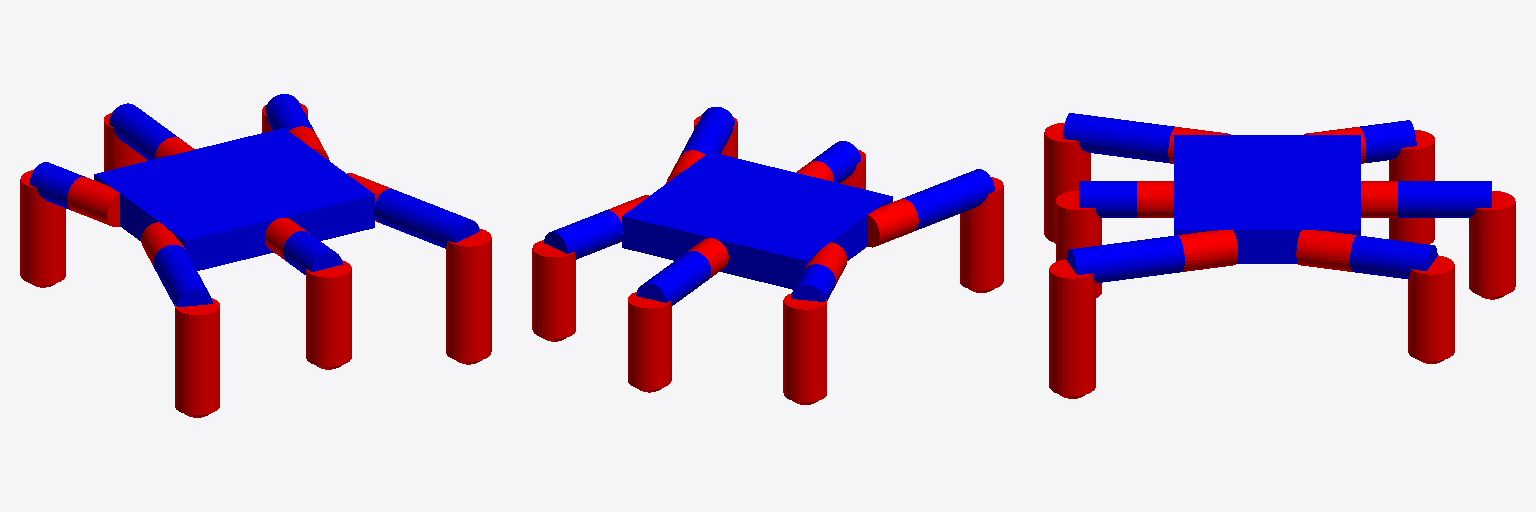
--- What the picture shows (computed from the rendered views, not written in the file) ---
Views: 3 orthographic renders of the robot side by side, from view 1: azimuth 30°, elevation 25°; view 2: azimuth 150°, elevation 25°; view 3: azimuth 270°, elevation 25°.
Model pexod with 19 links and 18 joints (18 revolute), rooted at base_link, posed all joints at 0.
Visible links, largest first — view 1: base_link, leg_3_3, leg_5_3, leg_4_3, leg_0_3, leg_3_2, leg_5_2, leg_1_2, leg_0_1, leg_4_2, leg_0_2, leg_2_2 (+3 smaller); view 2: base_link, leg_0_3, leg_5_3, leg_2_3, leg_1_3, leg_5_2, leg_2_2, leg_1_2, leg_5_1, leg_3_2, leg_0_2, leg_4_2 (+2 smaller); view 3: base_link, leg_3_3, leg_2_3, leg_1_3, leg_3_2, leg_5_2, leg_1_2, leg_5_3, leg_2_2, leg_0_3, leg_4_3, leg_2_1 (+5 smaller).
Boxes of the visible links, x1=… form: base_link: x1=94, y1=128, x2=374, y2=270; leg_3_3: x1=446, y1=228, x2=491, y2=364; leg_5_3: x1=175, y1=298, x2=219, y2=417; leg_4_3: x1=306, y1=260, x2=351, y2=369; leg_0_3: x1=20, y1=170, x2=65, y2=287; leg_3_2: x1=374, y1=189, x2=479, y2=248; leg_5_2: x1=153, y1=245, x2=212, y2=306; leg_1_2: x1=109, y1=103, x2=178, y2=160; leg_0_1: x1=67, y1=177, x2=119, y2=226; leg_4_2: x1=283, y1=231, x2=342, y2=274; leg_0_2: x1=29, y1=162, x2=84, y2=210; leg_2_2: x1=265, y1=94, x2=314, y2=131; base_link: x1=622, y1=152, x2=892, y2=289; leg_0_3: x1=783, y1=293, x2=826, y2=404; leg_5_3: x1=960, y1=177, x2=1003, y2=292; leg_2_3: x1=532, y1=240, x2=575, y2=341; leg_1_3: x1=628, y1=292, x2=671, y2=392; leg_5_2: x1=902, y1=169, x2=994, y2=230; leg_2_2: x1=544, y1=210, x2=622, y2=259; leg_1_2: x1=636, y1=251, x2=710, y2=305; leg_5_1: x1=868, y1=199, x2=918, y2=247; leg_3_2: x1=680, y1=107, x2=734, y2=155; leg_0_2: x1=791, y1=264, x2=835, y2=301; leg_4_2: x1=811, y1=141, x2=860, y2=182; base_link: x1=1174, y1=135, x2=1360, y2=263; leg_3_3: x1=1049, y1=259, x2=1095, y2=398; leg_2_3: x1=1408, y1=255, x2=1454, y2=363; leg_1_3: x1=1469, y1=191, x2=1515, y2=299; leg_3_2: x1=1066, y1=235, x2=1184, y2=282; leg_5_2: x1=1063, y1=113, x2=1174, y2=163; leg_1_2: x1=1398, y1=181, x2=1491, y2=217; leg_5_3: x1=1044, y1=123, x2=1090, y2=243; leg_2_2: x1=1350, y1=235, x2=1437, y2=278; leg_0_3: x1=1389, y1=130, x2=1434, y2=244; leg_4_3: x1=1056, y1=191, x2=1101, y2=297; leg_2_1: x1=1296, y1=230, x2=1356, y2=271.
Bounding box of the posed robot: 0.3958 × 0.5049 × 0.1716 m (x, y, z).
Geometry: primitives only (box / cylinder / sphere), no mesh files.

URDF robot description (pexod):
<?xml version="1.0" ?>
<!-- =================================================================================== -->
<!-- |    This document was autogenerated by xacro from pexod.xacro                    | -->
<!-- |    EDITING THIS FILE BY HAND IS NOT RECOMMENDED                                 | -->
<!-- =================================================================================== -->
<robot name="pexod" xmlns:xacro="http://www.ros.org/wiki/xacro">
  <!-- <xacro:include filename="$(find pexod_description)/urdf/pexod_control.xacro" /> -->
  <!-- MATERIALS -->
  <material name="Blue">
    <color rgba="0 0 1 1"/>
  </material>
  <material name="Red">
    <color rgba="1 0 0 1"/>
  </material>
  <material name="Green">
    <color rgba="0 1 0 1"/>
  </material>
  <material name="Yellow">
    <color rgba="1 1 0 1"/>
  </material>
  <material name="LightGrey">
    <color rgba="0.6 0.6 0.6 1.0"/>
  </material>
  <!-- END OF MATERIALS -->
  <!-- XACRO MACROS FOR VISUALS AND COLLISIONS -->
  <!-- END OF XACRO MACROS -->
  <!-- TORSO -->
  <link name="base_link">
    <visual>
      <origin rpy="0 0 0" xyz="0 0 0"/>
      <geometry>
        <box size="0.24 0.2 0.04"/>
      </geometry>
      <material name="Blue"/>
    </visual>
    <collision>
      <origin rpy="0 0 0" xyz="0 0 0"/>
      <geometry>
        <box size="0.24 0.2 0.04"/>
      </geometry>
    </collision>
    <inertial>
      <!-- CENTER OF MASS -->
      <origin rpy="0 0 0" xyz="0 0 0"/>
      <mass value="1.031"/>
      <!-- box inertia: 1/12*m(y^2+z^2), ... -->
      <inertia ixx="0.00357413333333" ixy="0" ixz="0" iyy="0.00508626666667" iyz="0" izz="0.00838546666667"/>
    </inertial>
  </link>
  <!-- XACRO MACRO FOR LEGS LINKS/JOINTS -->
  <!-- END OF LEG LINKS/JOINTS -->
  <joint name="body_leg_2" type="revolute">
    <parent link="base_link"/>
    <child link="leg_2_1"/>
    <limit effort="30.0" lower="-1.57079632679" upper="1.57079632679" velocity="7.0"/>
    <origin rpy="0 0 -0.3" xyz="0.11 0.04 0"/>
    <!-- <xacro:if value="${index == 5 or index == 4 or index == 3}">
                <axis xyz="0 0 1"/>
            </xacro:if>
            <xacro:if value="${index == 2 or index == 1 or index == 0}"> -->
    <axis xyz="0 0 1"/>
    <!-- </xacro:if> -->
    <dynamics damping="0.0"/>
  </joint>
  <link name="leg_2_1">
    <visual>
      <origin rpy="1.57079632679 0 0" xyz="0.01 0.03 0"/>
      <geometry>
        <cylinder length="0.06" radius="0.02"/>
      </geometry>
      <material name="Red"/>
    </visual>
    <collision>
      <origin rpy="1.57079632679 0 0" xyz="0.01 0.03 0"/>
      <geometry>
        <box size="0.02 0.02 0.06"/>
      </geometry>
    </collision>
    <inertial>
      <!-- CENTER OF MASS -->
      <origin rpy="1.57079632679 0 0" xyz="0.01 0.03 0"/>
      <mass value="0.02"/>
      <!-- box inertia: 1/12*m(y^2+z^2), ... -->
      <inertia ixx="6.66666666667e-06" ixy="0" ixz="0" iyy="6.66666666667e-06" iyz="0" izz="1.33333333333e-06"/>
    </inertial>
  </link>
  <joint name="leg_2_1_2" type="revolute">
    <parent link="leg_2_1"/>
    <child link="leg_2_2"/>
    <limit effort="30.0" lower="-0.78539816339" upper="0.78539816339" velocity="7.0"/>
    <origin rpy="0 0 0" xyz="0 0.06 0"/>
    <axis xyz="1 0 0"/>
    <dynamics damping="0.0"/>
  </joint>
  <link name="leg_2_2">
    <visual>
      <origin rpy="1.57079632679 0 0" xyz="0.01 0.0430266638353 0"/>
      <geometry>
        <cylinder length="0.0860533276705" radius="0.02"/>
      </geometry>
      <material name="Blue"/>
    </visual>
    <collision>
      <origin rpy="1.57079632679 0 0" xyz="0.01 0.0430266638353 0"/>
      <geometry>
        <box size="0.02 0.02 0.0860533276705"/>
      </geometry>
    </collision>
    <inertial>
      <!-- CENTER OF MASS -->
      <origin rpy="1.57079632679 0 0" xyz="0.01 0.0430266638353 0"/>
      <mass value="0.184"/>
      <!-- box inertia: 1/12*m(y^2+z^2), ... -->
      <inertia ixx="0.000119679353115" ixy="0" ixz="0" iyy="0.000119679353115" iyz="0" izz="1.22666666667e-05"/>
    </inertial>
  </link>
  <joint name="leg_2_2_3" type="revolute">
    <parent link="leg_2_2"/>
    <child link="leg_2_3"/>
    <limit effort="30.0" lower="-0.78539816339" upper="0.78539816339" velocity="7.0"/>
    <origin rpy="-1.57079632679 0 0" xyz="0 0.0860533276705 0"/>
    <axis xyz="-1 0 0"/>
    <dynamics damping="0.0"/>
  </joint>
  <link name="leg_2_3">
    <visual>
      <origin rpy="1.57079632679 0 0" xyz="0.0125 0.0512693097865 0"/>
      <geometry>
        <cylinder length="0.102538619573" radius="0.025"/>
      </geometry>
      <material name="Red"/>
    </visual>
    <visual>
      <origin rpy="1.57079632679 0 0" xyz="0.0125 0.090038619573 0"/>
      <geometry>
        <sphere radius="0.025"/>
      </geometry>
      <material name="Red"/>
    </visual>
    <collision>
      <origin rpy="1.57079632679 0 0" xyz="0.0125 0.0512693097865 0"/>
      <geometry>
        <box size="0.025 0.025 0.102538619573"/>
      </geometry>
    </collision>
    <collision>
      <origin rpy="1.57079632679 0 0" xyz="0.0125 0.090038619573 0"/>
      <geometry>
        <sphere radius="0.025"/>
      </geometry>
      <material name="Red"/>
    </collision>
    <inertial>
      <!-- CENTER OF MASS -->
      <origin rpy="1.57079632679 0 0" xyz="0.0125 0.0512693097865 0"/>
      <mass value="0.04"/>
      <!-- box inertia: 1/12*m(y^2+z^2), ... -->
      <inertia ixx="3.71305616798e-05" ixy="0" ixz="0" iyy="3.71305616798e-05" iyz="0" izz="4.16666666667e-06"/>
    </inertial>
  </link>
  <joint name="body_leg_3" type="revolute">
    <parent link="base_link"/>
    <child link="leg_3_1"/>
    <limit effort="30.0" lower="-1.57079632679" upper="1.57079632679" velocity="7.0"/>
    <origin rpy="0 0 0.3" xyz="0.11 -0.04 0"/>
    <!-- <xacro:if value="${index == 5 or index == 4 or index == 3}">
                <axis xyz="0 0 1"/>
            </xacro:if>
            <xacro:if value="${index == 2 or index == 1 or index == 0}"> -->
    <axis xyz="0 0 1"/>
    <!-- </xacro:if> -->
    <dynamics damping="0.0"/>
  </joint>
  <link name="leg_3_1">
    <visual>
      <origin rpy="1.57079632679 0 0" xyz="0.01 -0.03 0"/>
      <geometry>
        <cylinder length="0.06" radius="0.02"/>
      </geometry>
      <material name="Red"/>
    </visual>
    <collision>
      <origin rpy="1.57079632679 0 0" xyz="0.01 -0.03 0"/>
      <geometry>
        <box size="0.02 0.02 0.06"/>
      </geometry>
    </collision>
    <inertial>
      <!-- CENTER OF MASS -->
      <origin rpy="1.57079632679 0 0" xyz="0.01 -0.03 0"/>
      <mass value="0.02"/>
      <!-- box inertia: 1/12*m(y^2+z^2), ... -->
      <inertia ixx="6.66666666667e-06" ixy="0" ixz="0" iyy="6.66666666667e-06" iyz="0" izz="1.33333333333e-06"/>
    </inertial>
  </link>
  <joint name="leg_3_1_2" type="revolute">
    <parent link="leg_3_1"/>
    <child link="leg_3_2"/>
    <limit effort="30.0" lower="-0.78539816339" upper="0.78539816339" velocity="7.0"/>
    <origin rpy="0 0 0" xyz="0 -0.06 0"/>
    <axis xyz="-1 0 0"/>
    <dynamics damping="0.0"/>
  </joint>
  <link name="leg_3_2">
    <visual>
      <origin rpy="1.57079632679 0 0" xyz="0.01 -0.0602237275635 0"/>
      <geometry>
        <cylinder length="0.120447455127" radius="0.02"/>
      </geometry>
      <material name="Blue"/>
    </visual>
    <collision>
      <origin rpy="1.57079632679 0 0" xyz="0.01 -0.0602237275635 0"/>
      <geometry>
        <box size="0.02 0.02 0.120447455127"/>
      </geometry>
    </collision>
    <inertial>
      <!-- CENTER OF MASS -->
      <origin rpy="1.57079632679 0 0" xyz="0.01 -0.0602237275635 0"/>
      <mass value="0.184"/>
      <!-- box inertia: 1/12*m(y^2+z^2), ... -->
      <inertia ixx="0.000228583038181" ixy="0" ixz="0" iyy="0.000228583038181" iyz="0" izz="1.22666666667e-05"/>
    </inertial>
  </link>
  <joint name="leg_3_2_3" type="revolute">
    <parent link="leg_3_2"/>
    <child link="leg_3_3"/>
    <limit effort="30.0" lower="-0.78539816339" upper="0.78539816339" velocity="7.0"/>
    <origin rpy="1.57079632679 0 0" xyz="0 -0.120447455127 0"/>
    <axis xyz="1 0 0"/>
    <dynamics damping="0.0"/>
  </joint>
  <link name="leg_3_3">
    <visual>
      <origin rpy="1.57079632679 0 0" xyz="0.0125 -0.0695699544 0"/>
      <geometry>
        <cylinder length="0.1391399088" radius="0.025"/>
      </geometry>
      <material name="Red"/>
    </visual>
    <visual>
      <origin rpy="1.57079632679 0 0" xyz="0.0125 -0.1266399088 0"/>
      <geometry>
        <sphere radius="0.025"/>
      </geometry>
      <material name="Red"/>
    </visual>
    <collision>
      <origin rpy="1.57079632679 0 0" xyz="0.0125 -0.0695699544 0"/>
      <geometry>
        <box size="0.025 0.025 0.1391399088"/>
      </geometry>
    </collision>
    <collision>
      <origin rpy="1.57079632679 0 0" xyz="0.0125 -0.1266399088 0"/>
      <geometry>
        <sphere radius="0.025"/>
      </geometry>
      <material name="Red"/>
    </collision>
    <inertial>
      <!-- CENTER OF MASS -->
      <origin rpy="1.57079632679 0 0" xyz="0.0125 -0.0695699544 0"/>
      <mass value="0.04"/>
      <!-- box inertia: 1/12*m(y^2+z^2), ... -->
      <inertia ixx="6.66163807362e-05" ixy="0" ixz="0" iyy="6.66163807362e-05" iyz="0" izz="4.16666666667e-06"/>
    </inertial>
  </link>
  <joint name="body_leg_0" type="revolute">
    <parent link="base_link"/>
    <child link="leg_0_1"/>
    <limit effort="30.0" lower="-1.57079632679" upper="1.57079632679" velocity="7.0"/>
    <origin rpy="0 0 0.3" xyz="-0.13 0.04 0"/>
    <!-- <xacro:if value="${index == 5 or index == 4 or index == 3}">
                <axis xyz="0 0 1"/>
            </xacro:if>
            <xacro:if value="${index == 2 or index == 1 or index == 0}"> -->
    <axis xyz="0 0 1"/>
    <!-- </xacro:if> -->
    <dynamics damping="0.0"/>
  </joint>
  <link name="leg_0_1">
    <visual>
      <origin rpy="1.57079632679 0 0" xyz="0.01 0.03 0"/>
      <geometry>
        <cylinder length="0.06" radius="0.02"/>
      </geometry>
      <material name="Red"/>
    </visual>
    <collision>
      <origin rpy="1.57079632679 0 0" xyz="0.01 0.03 0"/>
      <geometry>
        <box size="0.02 0.02 0.06"/>
      </geometry>
    </collision>
    <inertial>
      <!-- CENTER OF MASS -->
      <origin rpy="1.57079632679 0 0" xyz="0.01 0.03 0"/>
      <mass value="0.02"/>
      <!-- box inertia: 1/12*m(y^2+z^2), ... -->
      <inertia ixx="6.66666666667e-06" ixy="0" ixz="0" iyy="6.66666666667e-06" iyz="0" izz="1.33333333333e-06"/>
    </inertial>
  </link>
  <joint name="leg_0_1_2" type="revolute">
    <parent link="leg_0_1"/>
    <child link="leg_0_2"/>
    <limit effort="30.0" lower="-0.78539816339" upper="0.78539816339" velocity="7.0"/>
    <origin rpy="0 0 0" xyz="0 0.06 0"/>
    <axis xyz="1 0 0"/>
    <dynamics damping="0.0"/>
  </joint>
  <link name="leg_0_2">
    <visual>
      <origin rpy="1.57079632679 0 0" xyz="0.01 0.0281871186843 0"/>
      <geometry>
        <cylinder length="0.0563742373685" radius="0.02"/>
      </geometry>
      <material name="Blue"/>
    </visual>
    <collision>
      <origin rpy="1.57079632679 0 0" xyz="0.01 0.0281871186843 0"/>
      <geometry>
        <box size="0.02 0.02 0.0563742373685"/>
      </geometry>
    </collision>
    <inertial>
      <!-- CENTER OF MASS -->
      <origin rpy="1.57079632679 0 0" xyz="0.01 0.0281871186843 0"/>
      <mass value="0.184"/>
      <!-- box inertia: 1/12*m(y^2+z^2), ... -->
      <inertia ixx="5.48635044628e-05" ixy="0" ixz="0" iyy="5.48635044628e-05" iyz="0" izz="1.22666666667e-05"/>
    </inertial>
  </link>
  <joint name="leg_0_2_3" type="revolute">
    <parent link="leg_0_2"/>
    <child link="leg_0_3"/>
    <limit effort="30.0" lower="-0.78539816339" upper="0.78539816339" velocity="7.0"/>
    <origin rpy="-1.57079632679 0 0" xyz="0 0.0563742373685 0"/>
    <axis xyz="-1 0 0"/>
    <dynamics damping="0.0"/>
  </joint>
  <link name="leg_0_3">
    <visual>
      <origin rpy="1.57079632679 0 0" xyz="0.0125 0.058331699389 0"/>
      <geometry>
        <cylinder length="0.116663398778" radius="0.025"/>
      </geometry>
      <material name="Red"/>
    </visual>
    <visual>
      <origin rpy="1.57079632679 0 0" xyz="0.0125 0.104163398778 0"/>
      <geometry>
        <sphere radius="0.025"/>
      </geometry>
      <material name="Red"/>
    </visual>
    <collision>
      <origin rpy="1.57079632679 0 0" xyz="0.0125 0.058331699389 0"/>
      <geometry>
        <box size="0.025 0.025 0.116663398778"/>
      </geometry>
    </collision>
    <collision>
      <origin rpy="1.57079632679 0 0" xyz="0.0125 0.104163398778 0"/>
      <geometry>
        <sphere radius="0.025"/>
      </geometry>
      <material name="Red"/>
    </collision>
    <inertial>
      <!-- CENTER OF MASS -->
      <origin rpy="1.57079632679 0 0" xyz="0.0125 0.058331699389 0"/>
      <mass value="0.04"/>
      <!-- box inertia: 1/12*m(y^2+z^2), ... -->
      <inertia ixx="4.74511620481e-05" ixy="0" ixz="0" iyy="4.74511620481e-05" iyz="0" izz="4.16666666667e-06"/>
    </inertial>
  </link>
  <joint name="body_leg_5" type="revolute">
    <parent link="base_link"/>
    <child link="leg_5_1"/>
    <limit effort="30.0" lower="-1.57079632679" upper="1.57079632679" velocity="7.0"/>
    <origin rpy="0 0 -0.3" xyz="-0.13 -0.04 0"/>
    <!-- <xacro:if value="${index == 5 or index == 4 or index == 3}">
                <axis xyz="0 0 1"/>
            </xacro:if>
            <xacro:if value="${index == 2 or index == 1 or index == 0}"> -->
    <axis xyz="0 0 1"/>
    <!-- </xacro:if> -->
    <dynamics damping="0.0"/>
  </joint>
  <link name="leg_5_1">
    <visual>
      <origin rpy="1.57079632679 0 0" xyz="0.01 -0.03 0"/>
      <geometry>
        <cylinder length="0.06" radius="0.02"/>
      </geometry>
      <material name="Red"/>
    </visual>
    <collision>
      <origin rpy="1.57079632679 0 0" xyz="0.01 -0.03 0"/>
      <geometry>
        <box size="0.02 0.02 0.06"/>
      </geometry>
    </collision>
    <inertial>
      <!-- CENTER OF MASS -->
      <origin rpy="1.57079632679 0 0" xyz="0.01 -0.03 0"/>
      <mass value="0.02"/>
      <!-- box inertia: 1/12*m(y^2+z^2), ... -->
      <inertia ixx="6.66666666667e-06" ixy="0" ixz="0" iyy="6.66666666667e-06" iyz="0" izz="1.33333333333e-06"/>
    </inertial>
  </link>
  <joint name="leg_5_1_2" type="revolute">
    <parent link="leg_5_1"/>
    <child link="leg_5_2"/>
    <limit effort="30.0" lower="-0.78539816339" upper="0.78539816339" velocity="7.0"/>
    <origin rpy="0 0 0" xyz="0 -0.06 0"/>
    <axis xyz="-1 0 0"/>
    <dynamics damping="0.0"/>
  </joint>
  <link name="leg_5_2">
    <visual>
      <origin rpy="1.57079632679 0 0" xyz="0.01 -0.0591214658795 0"/>
      <geometry>
        <cylinder length="0.118242931759" radius="0.02"/>
      </geometry>
      <material name="Blue"/>
    </visual>
    <collision>
      <origin rpy="1.57079632679 0 0" xyz="0.01 -0.0591214658795 0"/>
      <geometry>
        <box size="0.02 0.02 0.118242931759"/>
      </geometry>
    </collision>
    <inertial>
      <!-- CENTER OF MASS -->
      <origin rpy="1.57079632679 0 0" xyz="0.01 -0.0591214658795 0"/>
      <mass value="0.184"/>
      <!-- box inertia: 1/12*m(y^2+z^2), ... -->
      <inertia ixx="0.000220514660635" ixy="0" ixz="0" iyy="0.000220514660635" iyz="0" izz="1.22666666667e-05"/>
    </inertial>
  </link>
  <joint name="leg_5_2_3" type="revolute">
    <parent link="leg_5_2"/>
    <child link="leg_5_3"/>
    <limit effort="30.0" lower="-0.78539816339" upper="0.78539816339" velocity="7.0"/>
    <origin rpy="1.57079632679 0 0" xyz="0 -0.118242931759 0"/>
    <axis xyz="1 0 0"/>
    <dynamics damping="0.0"/>
  </joint>
  <link name="leg_5_3">
    <visual>
      <origin rpy="1.57079632679 0 0" xyz="0.0125 -0.060403931074 0"/>
      <geometry>
        <cylinder length="0.120807862148" radius="0.025"/>
      </geometry>
      <material name="Red"/>
    </visual>
    <visual>
      <origin rpy="1.57079632679 0 0" xyz="0.0125 -0.108307862148 0"/>
      <geometry>
        <sphere radius="0.025"/>
      </geometry>
      <material name="Red"/>
    </visual>
    <collision>
      <origin rpy="1.57079632679 0 0" xyz="0.0125 -0.060403931074 0"/>
      <geometry>
        <box size="0.025 0.025 0.120807862148"/>
      </geometry>
    </collision>
    <collision>
      <origin rpy="1.57079632679 0 0" xyz="0.0125 -0.108307862148 0"/>
      <geometry>
        <sphere radius="0.025"/>
      </geometry>
      <material name="Red"/>
    </collision>
    <inertial>
      <!-- CENTER OF MASS -->
      <origin rpy="1.57079632679 0 0" xyz="0.0125 -0.060403931074 0"/>
      <mass value="0.04"/>
      <!-- box inertia: 1/12*m(y^2+z^2), ... -->
      <inertia ixx="5.07317985226e-05" ixy="0" ixz="0" iyy="5.07317985226e-05" iyz="0" izz="4.16666666667e-06"/>
    </inertial>
  </link>
  <joint name="body_leg_1" type="revolute">
    <parent link="base_link"/>
    <child link="leg_1_1"/>
    <limit effort="30.0" lower="-1.57079632679" upper="1.57079632679" velocity="7.0"/>
    <origin rpy="0 0 0" xyz="-0.01 0.08 0"/>
    <!-- <xacro:if value="${index == 5 or index == 4 or index == 3}">
                <axis xyz="0 0 1"/>
            </xacro:if>
            <xacro:if value="${index == 2 or index == 1 or index == 0}"> -->
    <axis xyz="0 0 1"/>
    <!-- </xacro:if> -->
    <dynamics damping="0.0"/>
  </joint>
  <link name="leg_1_1">
    <visual>
      <origin rpy="1.57079632679 0 0" xyz="0.01 0.03 0"/>
      <geometry>
        <cylinder length="0.06" radius="0.02"/>
      </geometry>
      <material name="Red"/>
    </visual>
    <collision>
      <origin rpy="1.57079632679 0 0" xyz="0.01 0.03 0"/>
      <geometry>
        <box size="0.02 0.02 0.06"/>
      </geometry>
    </collision>
    <inertial>
      <!-- CENTER OF MASS -->
      <origin rpy="1.57079632679 0 0" xyz="0.01 0.03 0"/>
      <mass value="0.02"/>
      <!-- box inertia: 1/12*m(y^2+z^2), ... -->
      <inertia ixx="6.66666666667e-06" ixy="0" ixz="0" iyy="6.66666666667e-06" iyz="0" izz="1.33333333333e-06"/>
    </inertial>
  </link>
  <joint name="leg_1_1_2" type="revolute">
    <parent link="leg_1_1"/>
    <child link="leg_1_2"/>
    <limit effort="30.0" lower="-0.78539816339" upper="0.78539816339" velocity="7.0"/>
    <origin rpy="0 0 0" xyz="0 0.06 0"/>
    <axis xyz="1 0 0"/>
    <dynamics damping="0.0"/>
  </joint>
  <link name="leg_1_2">
    <visual>
      <origin rpy="1.57079632679 0 0" xyz="0.01 0.050501359613 0"/>
      <geometry>
        <cylinder length="0.101002719226" radius="0.02"/>
      </geometry>
      <material name="Blue"/>
    </visual>
    <collision>
      <origin rpy="1.57079632679 0 0" xyz="0.01 0.050501359613 0"/>
      <geometry>
        <box size="0.02 0.02 0.101002719226"/>
      </geometry>
    </collision>
    <inertial>
      <!-- CENTER OF MASS -->
      <origin rpy="1.57079632679 0 0" xyz="0.01 0.050501359613 0"/>
      <mass value="0.184"/>
      <!-- box inertia: 1/12*m(y^2+z^2), ... -->
      <inertia ixx="0.000162557089129" ixy="0" ixz="0" iyy="0.000162557089129" iyz="0" izz="1.22666666667e-05"/>
    </inertial>
  </link>
  <joint name="leg_1_2_3" type="revolute">
    <parent link="leg_1_2"/>
    <child link="leg_1_3"/>
    <limit effort="30.0" lower="-0.78539816339" upper="0.78539816339" velocity="7.0"/>
    <origin rpy="-1.57079632679 0 0" xyz="0 0.101002719226 0"/>
    <axis xyz="-1 0 0"/>
    <dynamics damping="0.0"/>
  </joint>
  <link name="leg_1_3">
    <visual>
      <origin rpy="1.57079632679 0 0" xyz="0.0125 0.0510190709265 0"/>
      <geometry>
        <cylinder length="0.102038141853" radius="0.025"/>
      </geometry>
      <material name="Red"/>
    </visual>
    <visual>
      <origin rpy="1.57079632679 0 0" xyz="0.0125 0.089538141853 0"/>
      <geometry>
        <sphere radius="0.025"/>
      </geometry>
      <material name="Red"/>
    </visual>
    <collision>
      <origin rpy="1.57079632679 0 0" xyz="0.0125 0.0510190709265 0"/>
      <geometry>
        <box size="0.025 0.025 0.102038141853"/>
      </geometry>
    </collision>
    <collision>
      <origin rpy="1.57079632679 0 0" xyz="0.0125 0.089538141853 0"/>
      <geometry>
        <sphere radius="0.025"/>
      </geometry>
      <material name="Red"/>
    </collision>
    <inertial>
      <!-- CENTER OF MASS -->
      <origin rpy="1.57079632679 0 0" xyz="0.0125 0.0510190709265 0"/>
      <mass value="0.04"/>
      <!-- box inertia: 1/12*m(y^2+z^2), ... -->
      <inertia ixx="3.67892746427e-05" ixy="0" ixz="0" iyy="3.67892746427e-05" iyz="0" izz="4.16666666667e-06"/>
    </inertial>
  </link>
  <joint name="body_leg_4" type="revolute">
    <parent link="base_link"/>
    <child link="leg_4_1"/>
    <limit effort="30.0" lower="-1.57079632679" upper="1.57079632679" velocity="7.0"/>
    <origin rpy="0 0 0" xyz="-0.01 -0.08 0"/>
    <!-- <xacro:if value="${index == 5 or index == 4 or index == 3}">
                <axis xyz="0 0 1"/>
            </xacro:if>
            <xacro:if value="${index == 2 or index == 1 or index == 0}"> -->
    <axis xyz="0 0 1"/>
    <!-- </xacro:if> -->
    <dynamics damping="0.0"/>
  </joint>
  <link name="leg_4_1">
    <visual>
      <origin rpy="1.57079632679 0 0" xyz="0.01 -0.03 0"/>
      <geometry>
        <cylinder length="0.06" radius="0.02"/>
      </geometry>
      <material name="Red"/>
    </visual>
    <collision>
      <origin rpy="1.57079632679 0 0" xyz="0.01 -0.03 0"/>
      <geometry>
        <box size="0.02 0.02 0.06"/>
      </geometry>
    </collision>
    <inertial>
      <!-- CENTER OF MASS -->
      <origin rpy="1.57079632679 0 0" xyz="0.01 -0.03 0"/>
      <mass value="0.02"/>
      <!-- box inertia: 1/12*m(y^2+z^2), ... -->
      <inertia ixx="6.66666666667e-06" ixy="0" ixz="0" iyy="6.66666666667e-06" iyz="0" izz="1.33333333333e-06"/>
    </inertial>
  </link>
  <joint name="leg_4_1_2" type="revolute">
    <parent link="leg_4_1"/>
    <child link="leg_4_2"/>
    <limit effort="30.0" lower="-0.78539816339" upper="0.78539816339" velocity="7.0"/>
    <origin rpy="0 0 0" xyz="0 -0.06 0"/>
    <axis xyz="-1 0 0"/>
    <dynamics damping="0.0"/>
  </joint>
  <link name="leg_4_2">
    <visual>
      <origin rpy="1.57079632679 0 0" xyz="0.01 -0.0309928143421 0"/>
      <geometry>
        <cylinder length="0.0619856286843" radius="0.02"/>
      </geometry>
      <material name="Blue"/>
    </visual>
    <collision>
      <origin rpy="1.57079632679 0 0" xyz="0.01 -0.0309928143421 0"/>
      <geometry>
        <box size="0.02 0.02 0.0619856286843"/>
      </geometry>
    </collision>
    <inertial>
      <!-- CENTER OF MASS -->
      <origin rpy="1.57079632679 0 0" xyz="0.01 -0.0309928143421 0"/>
      <mass value="0.184"/>
      <!-- box inertia: 1/12*m(y^2+z^2), ... -->
      <inertia ixx="6.50473451719e-05" ixy="0" ixz="0" iyy="6.50473451719e-05" iyz="0" izz="1.22666666667e-05"/>
    </inertial>
  </link>
  <joint name="leg_4_2_3" type="revolute">
    <parent link="leg_4_2"/>
    <child link="leg_4_3"/>
    <limit effort="30.0" lower="-0.78539816339" upper="0.78539816339" velocity="7.0"/>
    <origin rpy="1.57079632679 0 0" xyz="0 -0.0619856286843 0"/>
    <axis xyz="1 0 0"/>
    <dynamics damping="0.0"/>
  </joint>
  <link name="leg_4_3">
    <visual>
      <origin rpy="1.57079632679 0 0" xyz="0.0125 -0.053914958908 0"/>
      <geometry>
        <cylinder length="0.107829917816" radius="0.025"/>
      </geometry>
      <material name="Red"/>
    </visual>
    <visual>
      <origin rpy="1.57079632679 0 0" xyz="0.0125 -0.095329917816 0"/>
      <geometry>
        <sphere radius="0.025"/>
      </geometry>
      <material name="Red"/>
    </visual>
    <collision>
      <origin rpy="1.57079632679 0 0" xyz="0.0125 -0.053914958908 0"/>
      <geometry>
        <box size="0.025 0.025 0.107829917816"/>
      </geometry>
    </collision>
    <collision>
      <origin rpy="1.57079632679 0 0" xyz="0.0125 -0.095329917816 0"/>
      <geometry>
        <sphere radius="0.025"/>
      </geometry>
      <material name="Red"/>
    </collision>
    <inertial>
      <!-- CENTER OF MASS -->
      <origin rpy="1.57079632679 0 0" xyz="0.0125 -0.053914958908 0"/>
      <mass value="0.04"/>
      <!-- box inertia: 1/12*m(y^2+z^2), ... -->
      <inertia ixx="4.08409705874e-05" ixy="0" ixz="0" iyy="4.08409705874e-05" iyz="0" izz="4.16666666667e-06"/>
    </inertial>
  </link>
  <!-- END OF LEG LINKS/JOINTS -->
</robot>
